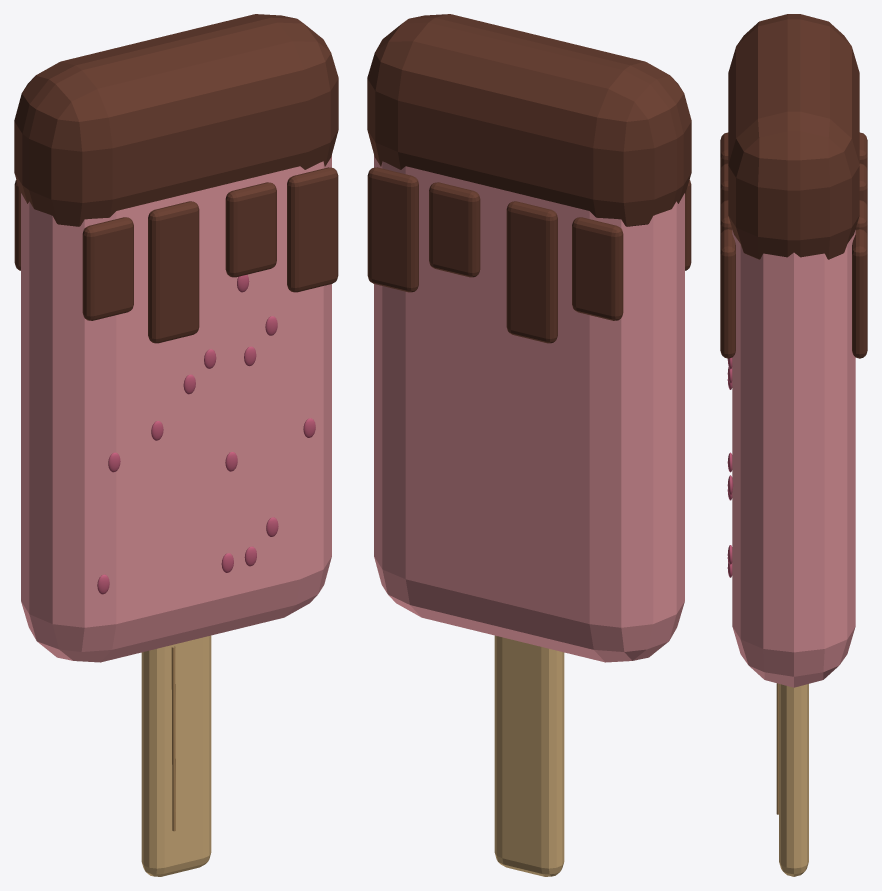
Rendered from icecream_strawberry_chocolate.glb.
3 renders of one model, left to right at view 1: azimuth 30°, elevation 25°; view 2: azimuth 150°, elevation 25°; view 3: azimuth 270°, elevation 25°, orthographic. The views are drawn at different scales.
Parts seen in each view (by area): view 1: Frozen cream body, Chocolate dipped cap, Thin wooden stick, Rounded chocolate drip.002, Rounded chocolate drip.006, Rounded chocolate drip, Rounded chocolate drip.004, Wood grain; view 2: Frozen cream body, Chocolate dipped cap, Thin wooden stick, Rounded chocolate drip.003, Rounded chocolate drip.007, Rounded chocolate drip.001, Rounded chocolate drip.005; view 3: Frozen cream body, Chocolate dipped cap, Thin wooden stick, Rounded chocolate drip.006, Rounded chocolate drip.007, Wood grain, Rounded chocolate drip.002, Rounded chocolate drip.003.
Boxes of the visible parts, x1=… form: Frozen cream body: x1=21, y1=155, x2=331, y2=662; Chocolate dipped cap: x1=14, y1=14, x2=338, y2=226; Thin wooden stick: x1=141, y1=635, x2=211, y2=876; Rounded chocolate drip.002: x1=148, y1=201, x2=199, y2=343; Rounded chocolate drip.006: x1=287, y1=167, x2=338, y2=292; Rounded chocolate drip: x1=82, y1=217, x2=133, y2=320; Rounded chocolate drip.004: x1=225, y1=182, x2=276, y2=277; Wood grain: x1=171, y1=646, x2=175, y2=831; Frozen cream body: x1=374, y1=155, x2=684, y2=662; Chocolate dipped cap: x1=367, y1=14, x2=691, y2=226; Thin wooden stick: x1=494, y1=635, x2=564, y2=876; Rounded chocolate drip.003: x1=506, y1=201, x2=557, y2=343; Rounded chocolate drip.007: x1=367, y1=167, x2=418, y2=292; Rounded chocolate drip.001: x1=572, y1=217, x2=623, y2=320; Rounded chocolate drip.005: x1=429, y1=182, x2=480, y2=277; Frozen cream body: x1=732, y1=230, x2=855, y2=687; Chocolate dipped cap: x1=728, y1=14, x2=859, y2=259; Thin wooden stick: x1=779, y1=684, x2=808, y2=876; Rounded chocolate drip.006: x1=720, y1=229, x2=735, y2=358; Rounded chocolate drip.007: x1=852, y1=229, x2=867, y2=358; Wood grain: x1=776, y1=683, x2=778, y2=814; Rounded chocolate drip.002: x1=720, y1=163, x2=728, y2=207; Rounded chocolate drip.003: x1=859, y1=163, x2=867, y2=207.
Bounding box in the file's own units: 0.738 × 1.94 × 0.322.
